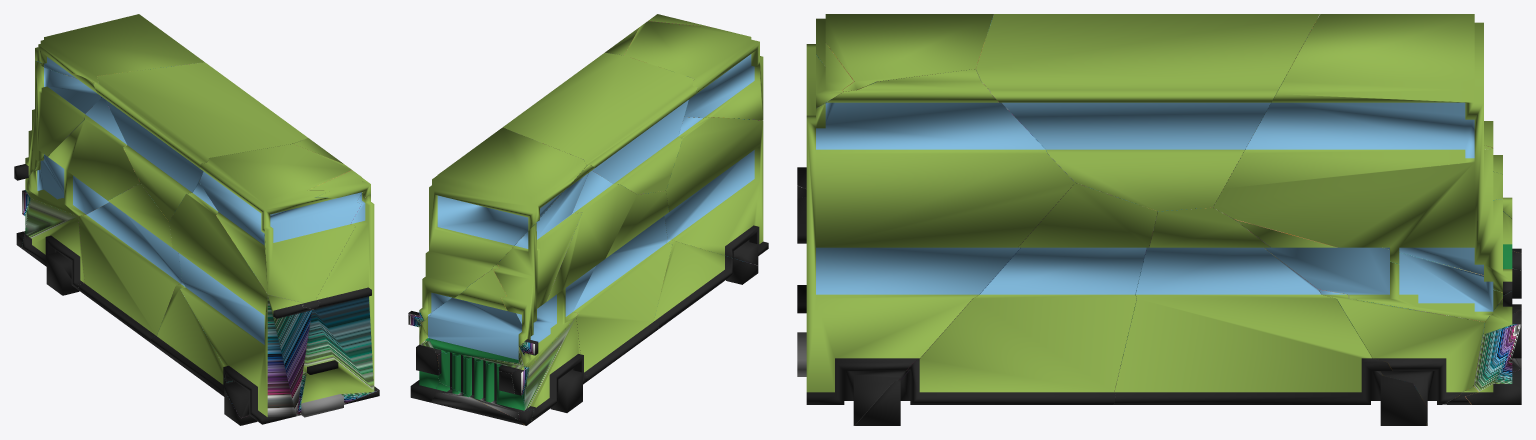
File: BusBroken.fbx
3 renders of one model, left to right at view 1: azimuth 30°, elevation 25°; view 2: azimuth 150°, elevation 25°; view 3: azimuth 270°, elevation 25°, orthographic. The views are drawn at different scales.
Visible parts, largest first — view 1: Vehicles-0.002_cell.002, Vehicles-0.002_cell.007, Vehicles-0.002_cell.011, Vehicles-0.002_cell.005, Vehicles-0.002_cell.012, Vehicles-0.002_cell.008, Vehicles-0.002_cell.006, Vehicles-0.002_cell, Vehicles-0.002_cell.009, Vehicles-0.002_cell.001, Vehicles-0.002_cell.010; view 2: Vehicles-0.002_cell.006, Vehicles-0.002_cell.011, Vehicles-0.002_cell.008, Vehicles-0.002_cell.002, Vehicles-0.002_cell.012, Vehicles-0.002_cell.007, Vehicles-0.002_cell.009, Vehicles-0.002_cell, Vehicles-0.002_cell.001, Vehicles-0.002_cell.015, Vehicles-0.002_cell.004, Vehicles-0.002_cell.017; view 3: Vehicles-0.002_cell.005, Vehicles-0.002_cell.006, Vehicles-0.002_cell.011, Vehicles-0.002_cell.014, Vehicles-0.002_cell.003, Vehicles-0.002_cell.008, Vehicles-0.002_cell.007, Vehicles-0.002_cell.009, Vehicles-0.002_cell.015, Vehicles-0.002_cell.010.
Part boxes in pixels (x1,y1,x2,y2): Vehicles-0.002_cell.002: (169, 182, 313, 424); Vehicles-0.002_cell.007: (199, 144, 362, 309); Vehicles-0.002_cell.011: (94, 62, 307, 221); Vehicles-0.002_cell.005: (293, 138, 379, 417); Vehicles-0.002_cell.012: (78, 183, 181, 342); Vehicles-0.002_cell.008: (25, 97, 140, 216); Vehicles-0.002_cell.006: (35, 14, 204, 83); Vehicles-0.002_cell: (14, 61, 101, 180); Vehicles-0.002_cell.009: (21, 198, 84, 295); Vehicles-0.002_cell.001: (150, 281, 257, 425); Vehicles-0.002_cell.010: (308, 170, 370, 197); Vehicles-0.002_cell.006: (408, 127, 586, 322); Vehicles-0.002_cell.011: (503, 52, 697, 194); Vehicles-0.002_cell.008: (421, 171, 637, 373); Vehicles-0.002_cell.002: (664, 117, 768, 265); Vehicles-0.002_cell.012: (573, 191, 672, 380); Vehicles-0.002_cell.007: (624, 21, 763, 120); Vehicles-0.002_cell.009: (436, 317, 587, 421); Vehicles-0.002_cell: (493, 165, 594, 356); Vehicles-0.002_cell.001: (654, 239, 758, 329); Vehicles-0.002_cell.015: (408, 314, 439, 402); Vehicles-0.002_cell.004: (431, 382, 524, 425); Vehicles-0.002_cell.017: (511, 366, 529, 404); Vehicles-0.002_cell.005: (797, 69, 1075, 425); Vehicles-0.002_cell.006: (1213, 14, 1512, 295); Vehicles-0.002_cell.011: (976, 14, 1319, 211); Vehicles-0.002_cell.014: (1113, 207, 1427, 425); Vehicles-0.002_cell.003: (855, 183, 1157, 425); Vehicles-0.002_cell.008: (1213, 145, 1521, 321); Vehicles-0.002_cell.007: (797, 14, 993, 198); Vehicles-0.002_cell.009: (1318, 268, 1521, 407); Vehicles-0.002_cell.015: (1465, 291, 1521, 404); Vehicles-0.002_cell.010: (816, 43, 853, 108).
Size of the model in its own units: 230 by 390 by 770.
